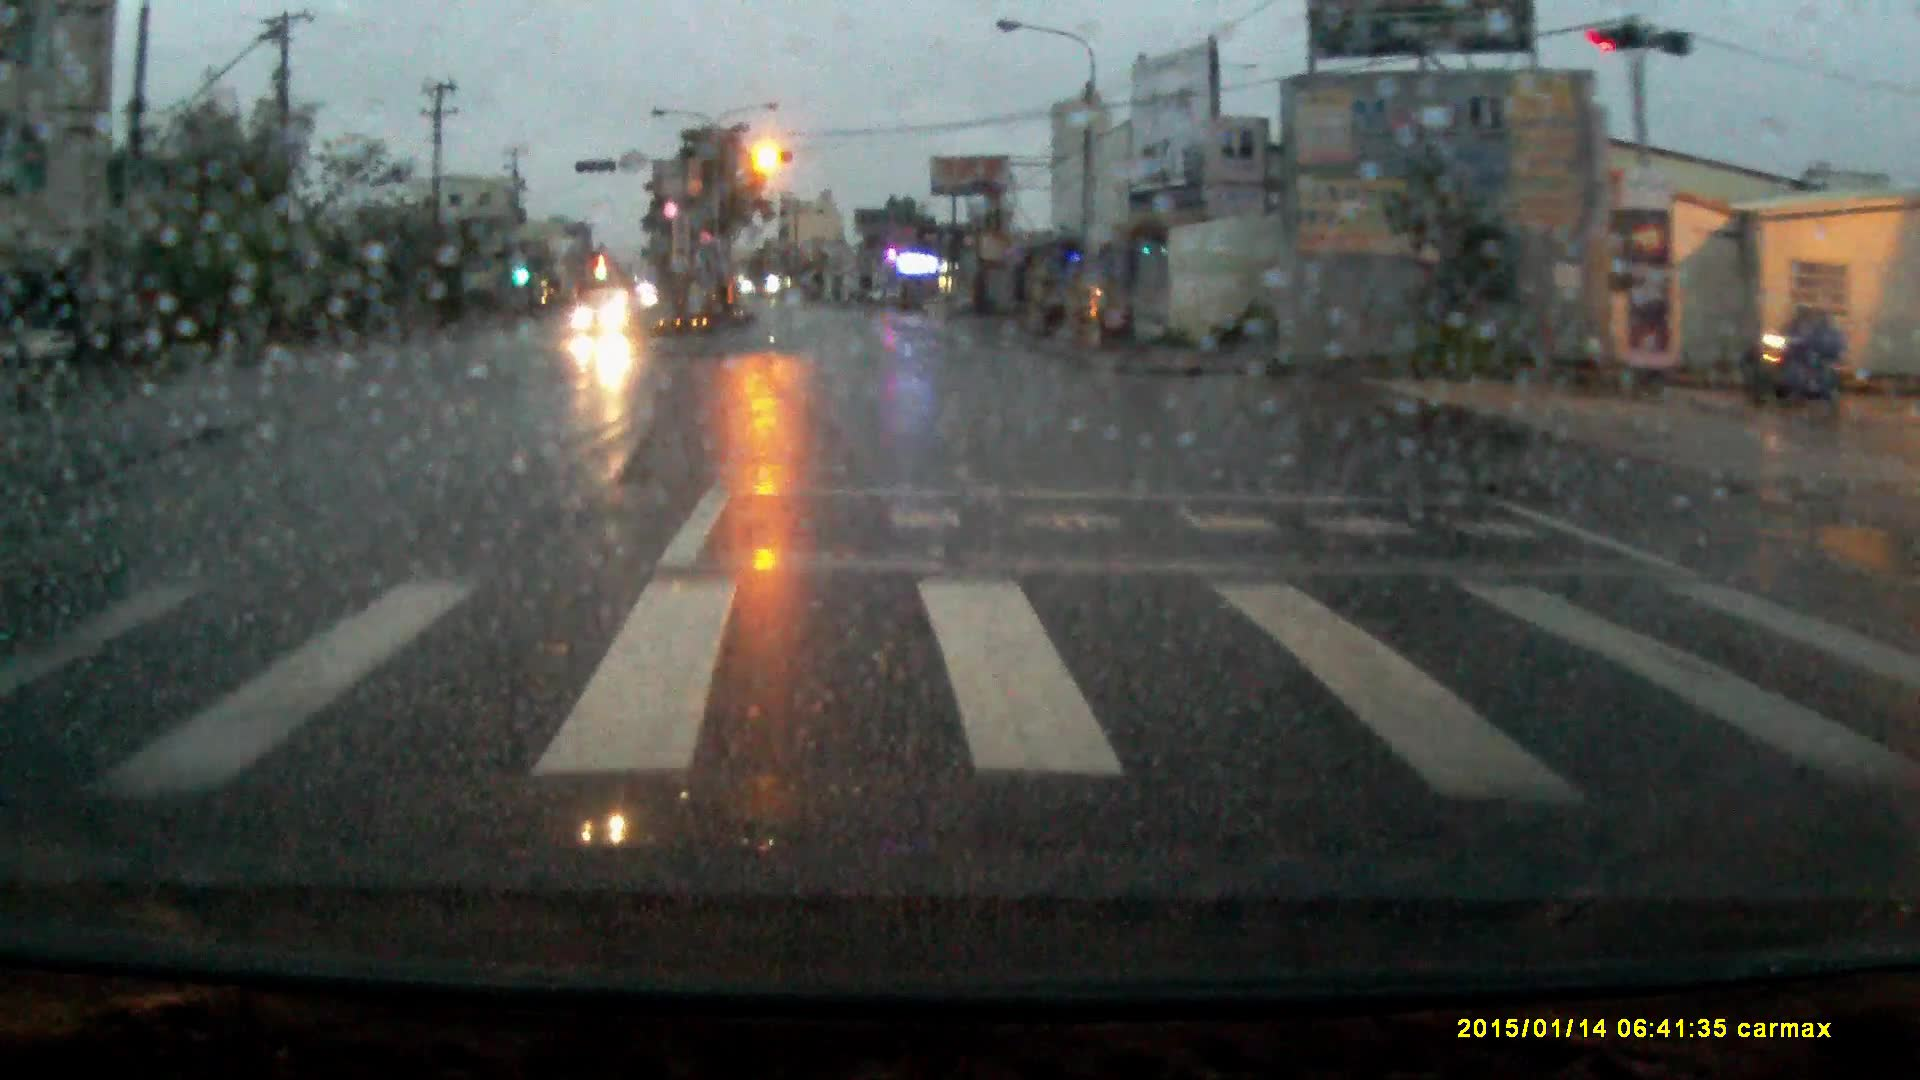rider: (1749, 294, 1851, 416)
vehicle: (571, 294, 634, 338)
